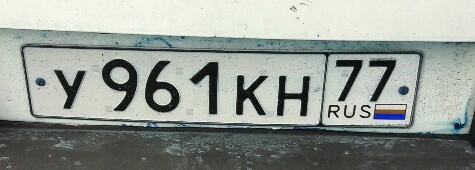license-plateSW: (20, 46, 433, 128)
